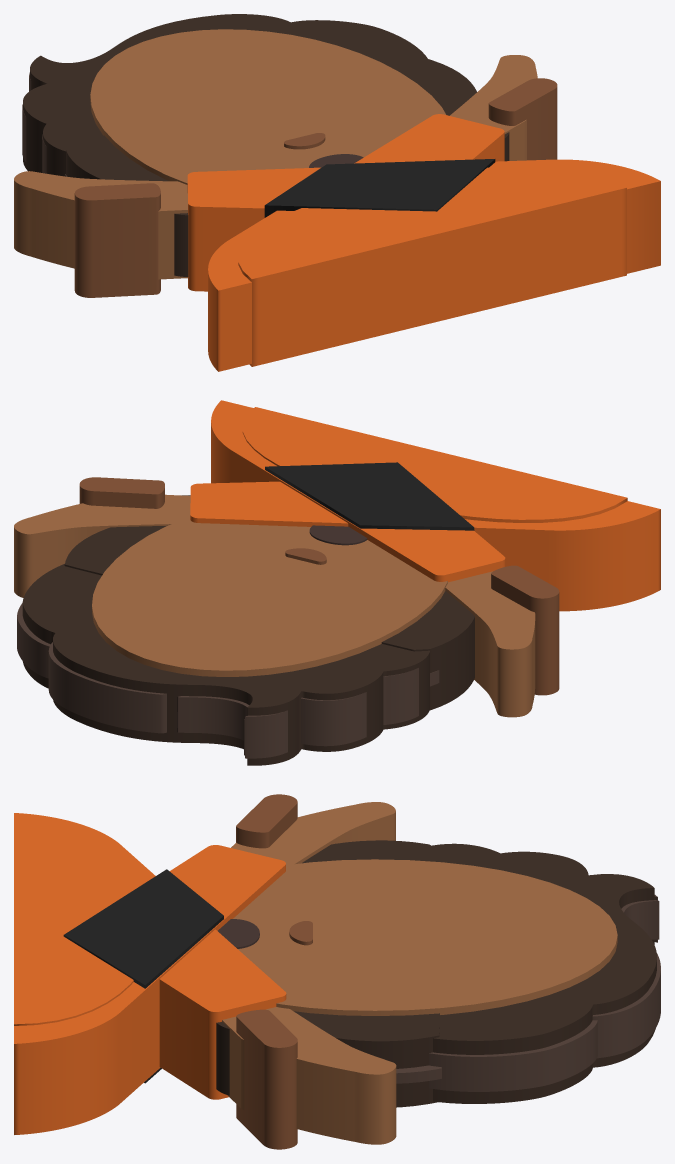
File: emoji_u1f645_1f3fe.glb
The picture shows the model from 3 angles, top to bottom: view 1: azimuth 30°, elevation 25°; view 2: azimuth 150°, elevation 25°; view 3: azimuth 270°, elevation 25°; orthographic projection. The views are drawn at different scales.
Visible parts, largest first — view 1: emoji_u1f645_1f3fe; view 2: emoji_u1f645_1f3fe; view 3: emoji_u1f645_1f3fe.
Part boxes in pixels (box(x1,y1,x2,y2)): emoji_u1f645_1f3fe: box(14, 14, 660, 371); emoji_u1f645_1f3fe: box(14, 400, 660, 765); emoji_u1f645_1f3fe: box(14, 794, 660, 1149).
Bounding box in the file's own units: 0.0331 × 0.006 × 0.0334.
